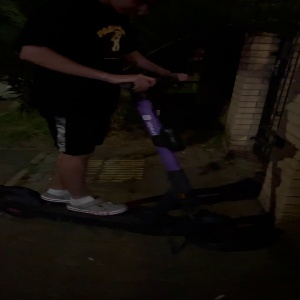human on a scooter: (1, 1, 237, 253)
